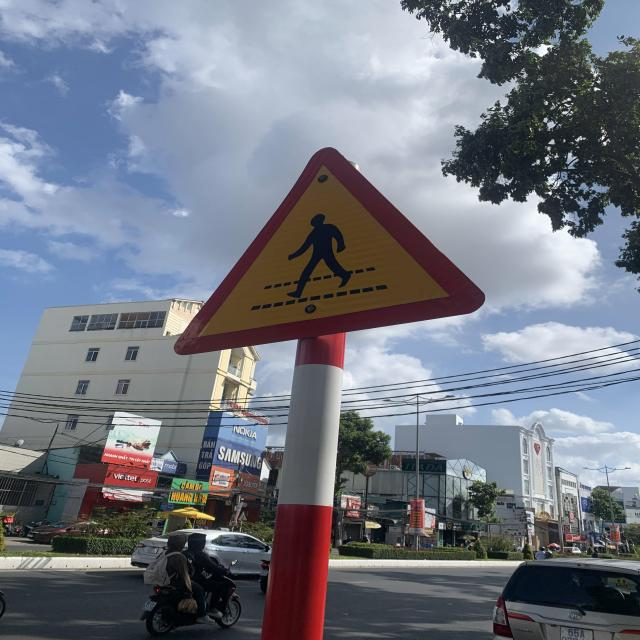Duong_Nguoi_Di_Bo_Sang_Ngang: (172, 145, 490, 361)
